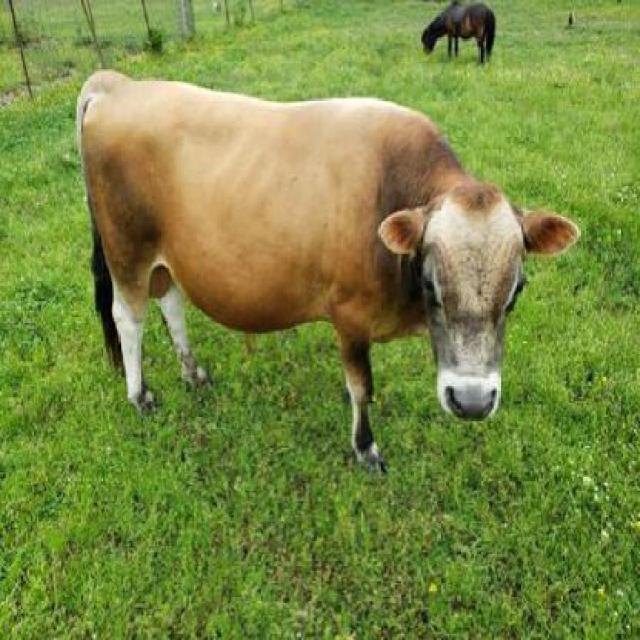Cow: (69, 68, 588, 478), (418, 0, 500, 66)
